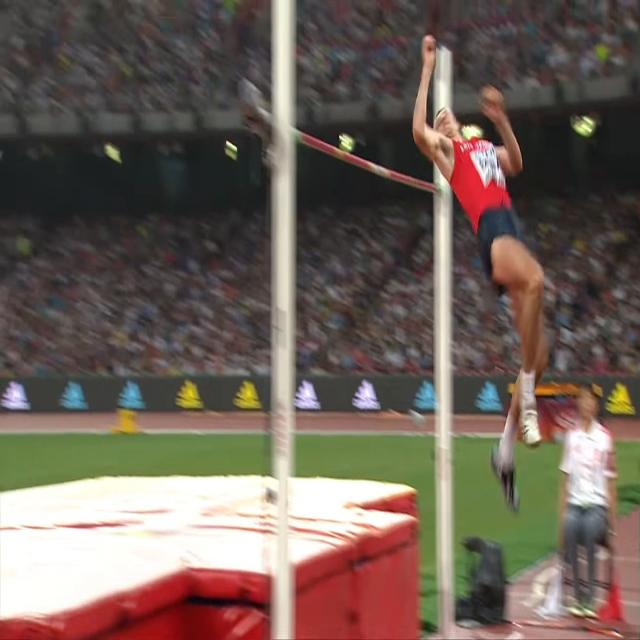jump: (412, 33, 548, 515)
